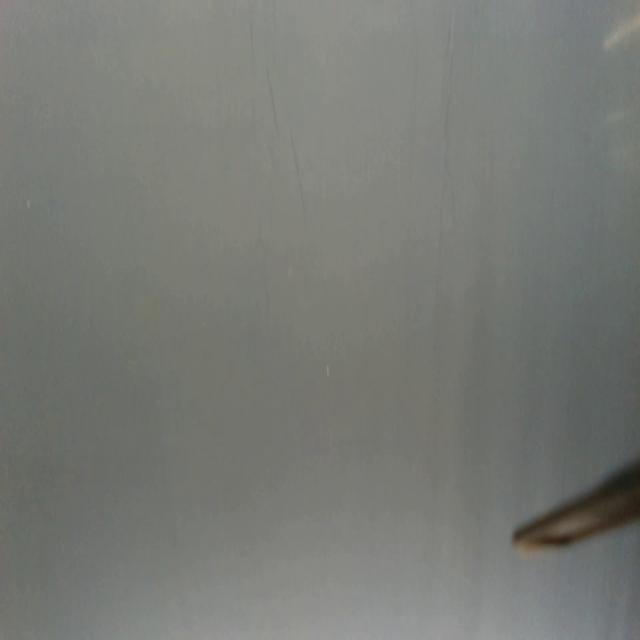hole: (325, 360, 332, 379), (24, 198, 32, 212)
